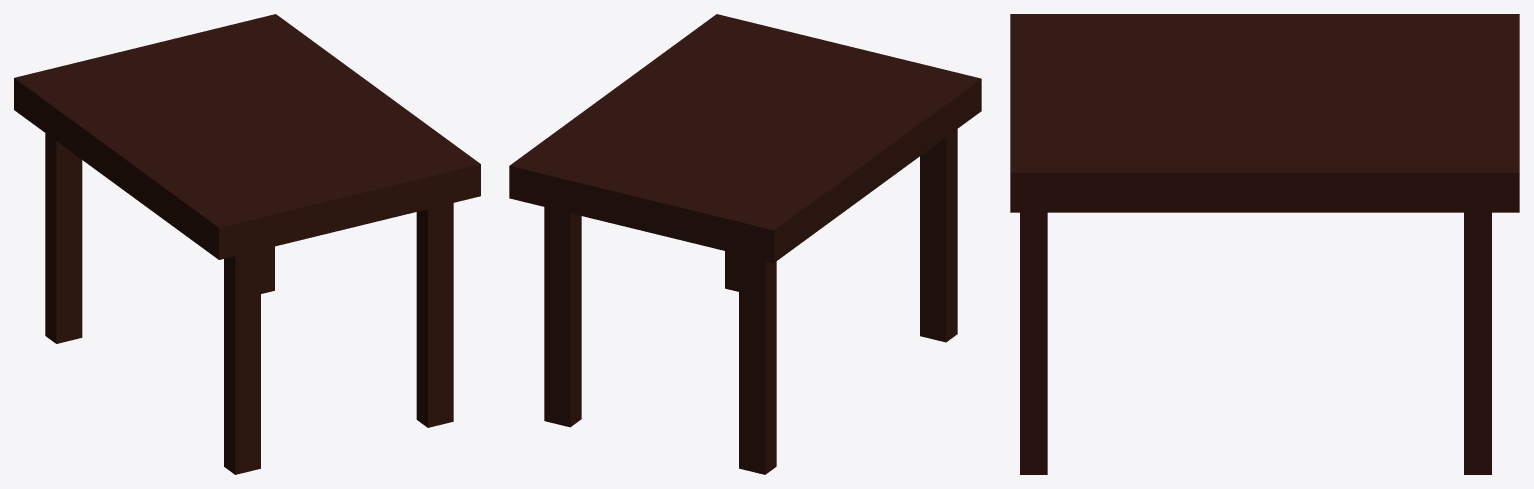
The model's file is nightstand.fbx.
3 renders of one model, left to right at view 1: azimuth 30°, elevation 25°; view 2: azimuth 150°, elevation 25°; view 3: azimuth 270°, elevation 25°, orthographic. The views are drawn at different scales.
Parts seen in each view (by area): view 1: nightstand_combined; view 2: nightstand_combined; view 3: nightstand_combined.
Part boxes in pixels (box(x1,y1,x2,y2)): nightstand_combined: box(14, 14, 480, 474); nightstand_combined: box(509, 14, 981, 474); nightstand_combined: box(1010, 14, 1519, 474).
Bounding box in the file's own units: 2.82 × 2.63 × 3.83.
